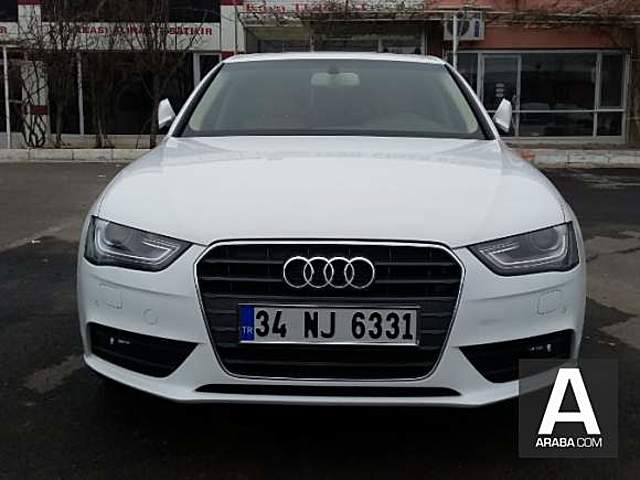audi: (273, 249, 383, 293)
